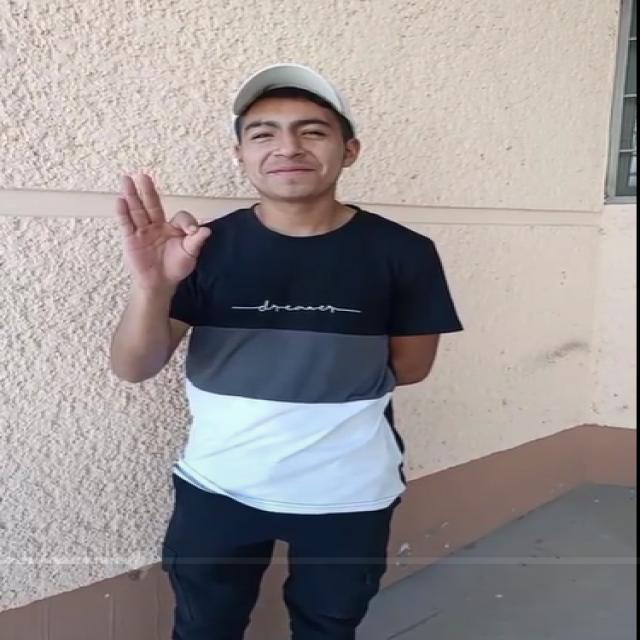F: (95, 164, 217, 299)
